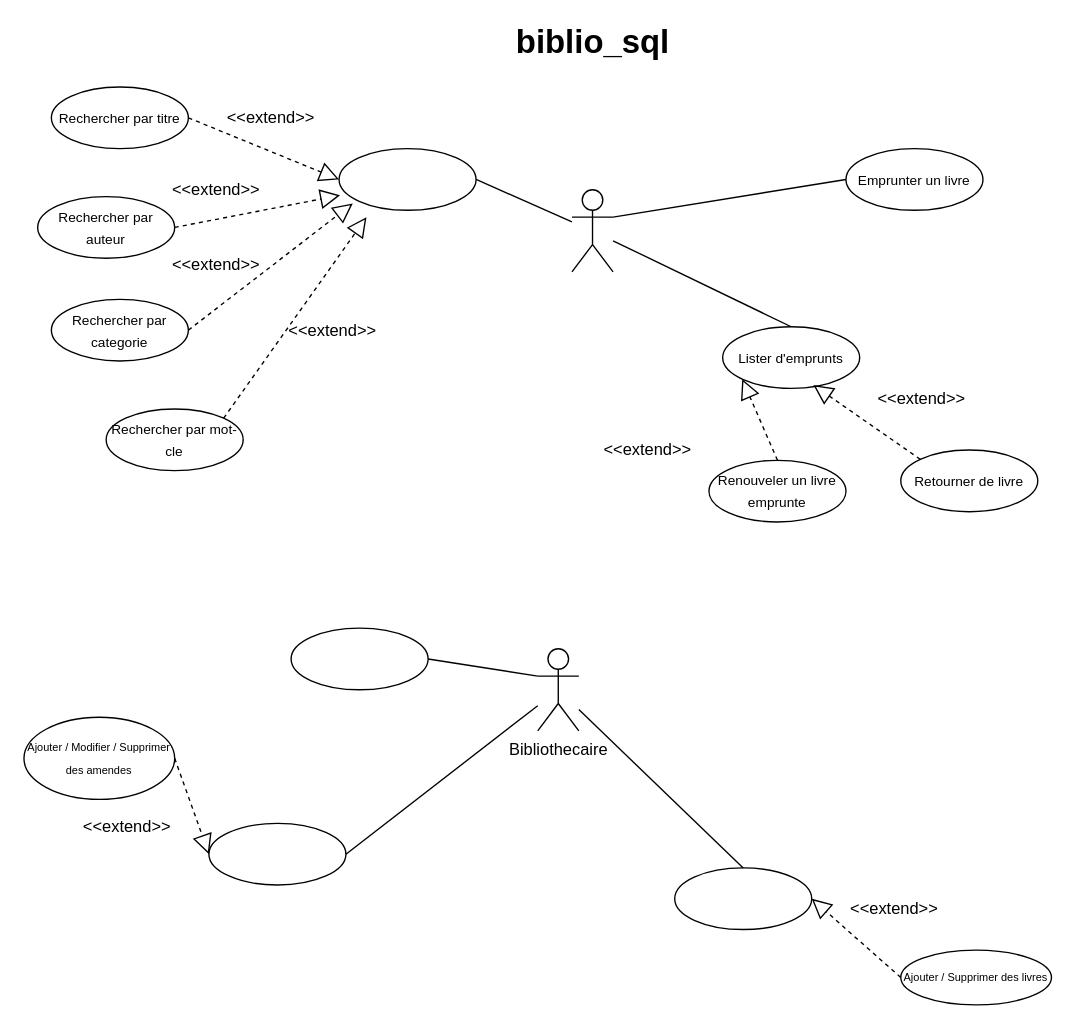
Some shapes in this 1075 by 1029 pixel diagram are drawn without their labels. Each missing label, with the centre of its shape:
Client: point (592, 230)
Gerer le catalogue: point (359, 658)
Gerer les comptes: point (277, 853)
Realiser l'inventaire: point (742, 898)
Rechercher dans le catalogue: point (407, 178)
